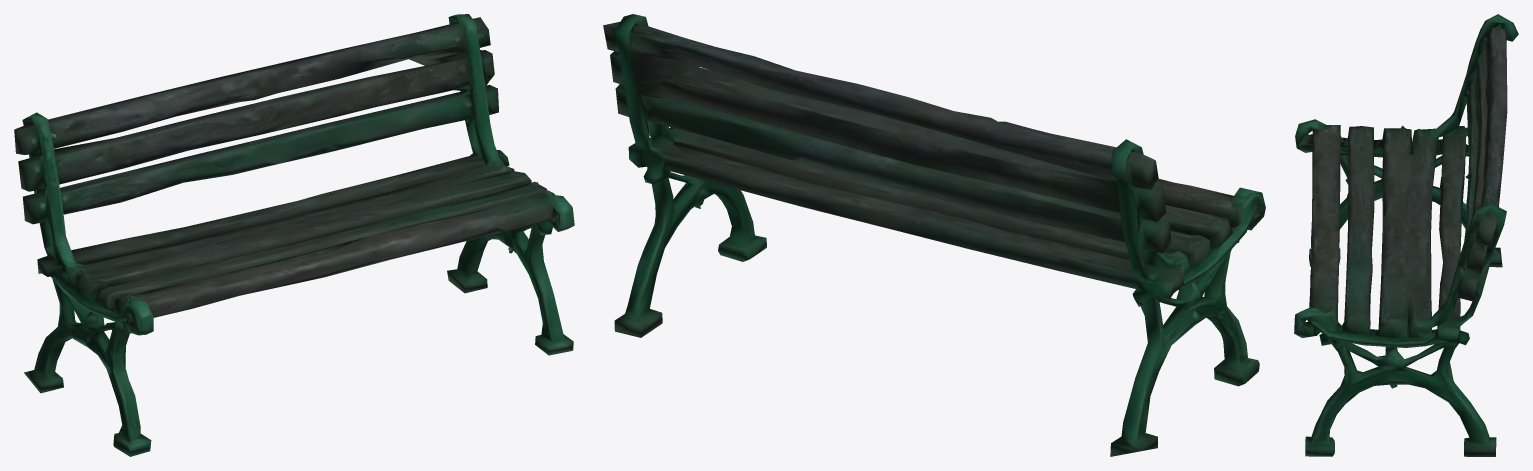
Rendered from park_bench.glb.
3 renders of one model, left to right at view 1: azimuth 30°, elevation 25°; view 2: azimuth 150°, elevation 25°; view 3: azimuth 270°, elevation 25°, orthographic. The views are drawn at different scales.
Visible parts, largest first — view 1: tripo_node_23a18799-d0ff-4aff-9e4d-60524fb2e787; view 2: tripo_node_23a18799-d0ff-4aff-9e4d-60524fb2e787; view 3: tripo_node_23a18799-d0ff-4aff-9e4d-60524fb2e787.
Boxes of the visible parts, left/top/right/bottom form: tripo_node_23a18799-d0ff-4aff-9e4d-60524fb2e787: left=14, top=14, right=574, bottom=456; tripo_node_23a18799-d0ff-4aff-9e4d-60524fb2e787: left=603, top=14, right=1265, bottom=456; tripo_node_23a18799-d0ff-4aff-9e4d-60524fb2e787: left=1294, top=14, right=1518, bottom=456.
Size of the model in its own units: 1.8 by 0.988 by 0.8179.
1 material, 1 textured.
